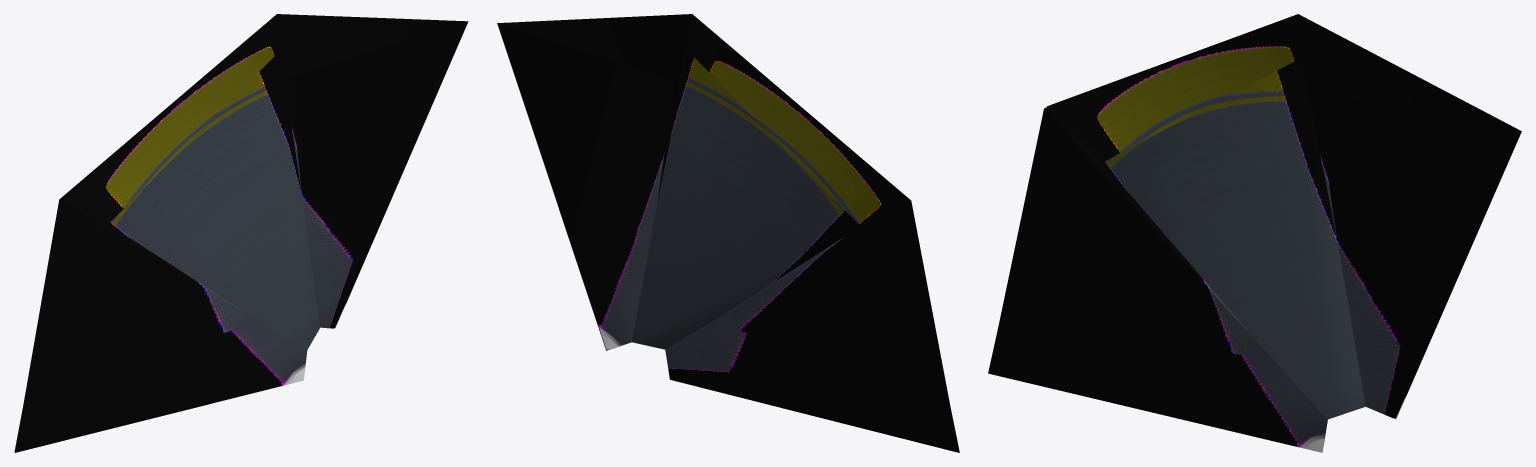
Rendered from blade_blur.obj.
The picture shows the model from 3 angles, left to right: view 1: azimuth 30°, elevation 25°; view 2: azimuth 150°, elevation 25°; view 3: azimuth 330°, elevation 25°; orthographic projection. The views are drawn at different scales.
Visible parts, largest first — view 1: blade_blur; view 2: blade_blur; view 3: blade_blur.
Boxes of the visible parts, x1,y1,x2,y2 form: blade_blur: (14, 14, 468, 452); blade_blur: (497, 14, 959, 452); blade_blur: (988, 14, 1521, 452).
Size of the model in its own units: 1.13 by 0.8805 by 0.0686.
